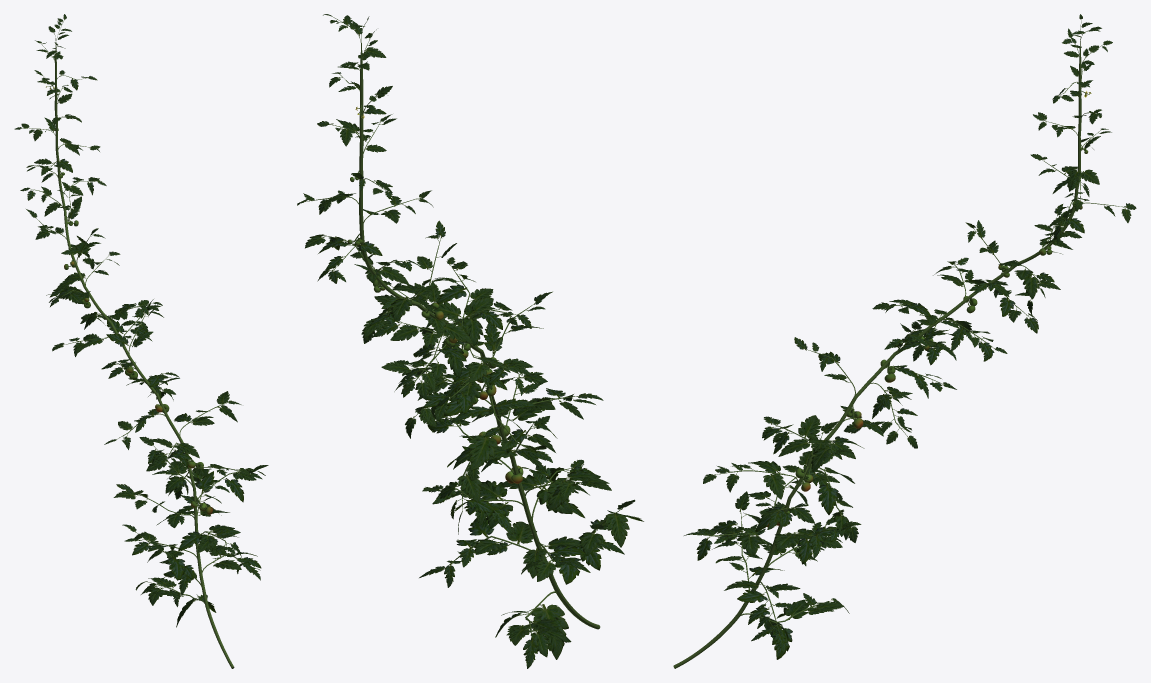
The model's file is tomato_000.glb.
3 views of the same model, side by side, from view 1: azimuth 30°, elevation 25°; view 2: azimuth 150°, elevation 25°; view 3: azimuth 270°, elevation 25° (orthographic). The views are drawn at different scales.
Visible parts, largest first — view 1: tomato_000; view 2: tomato_000; view 3: tomato_000.
Part boxes in pixels (<box>): tomato_000: <box>14,14,268,668</box>; tomato_000: <box>297,14,643,668</box>; tomato_000: <box>673,14,1136,668</box>.
Bounding box in the file's own units: 0.8549 × 2.94 × 1.91.
17 materials, 16 textured.
